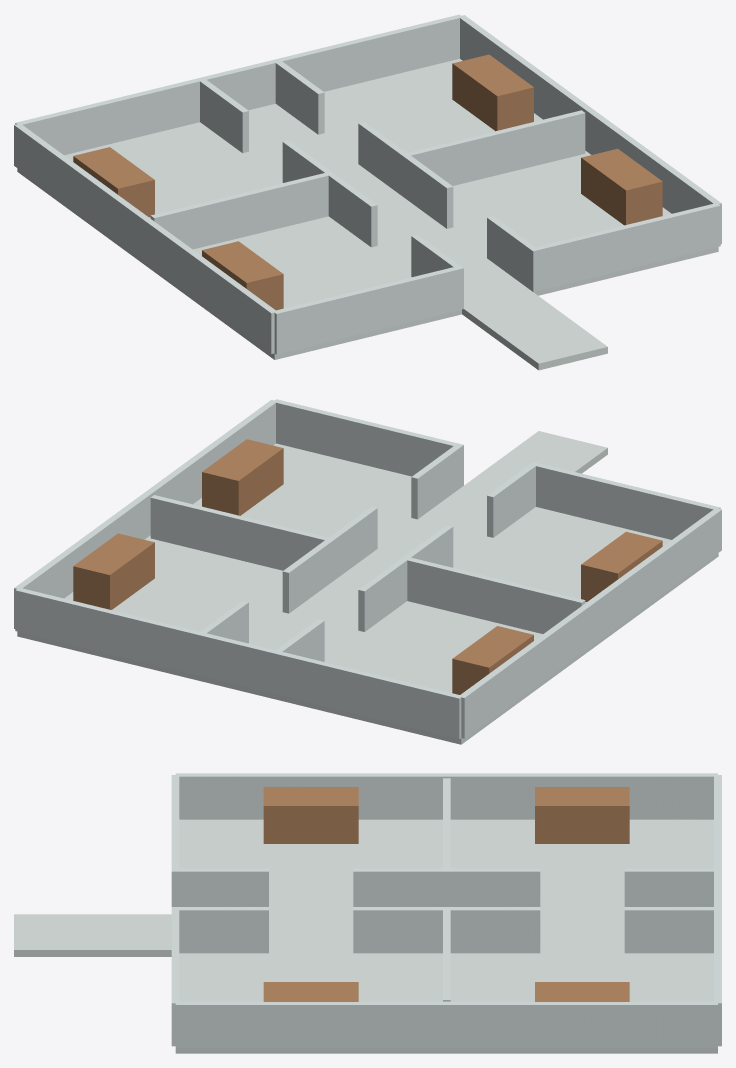
Rendered from research-lab-cutaway.glb.
3 views of the same model, one above another, from view 1: azimuth 30°, elevation 25°; view 2: azimuth 150°, elevation 25°; view 3: azimuth 270°, elevation 25° (orthographic). The views are drawn at different scales.
Visible parts, largest first — view 1: research-lab/floor/cutaway.002, research-lab/rear-wall/cutaway.002, research-lab/outer--1/cutaway.002, research-lab/entry-jamb-1/cutaway.002, research-lab/entry-jamb--1/cutaway.002, research-lab/outer-1/cutaway.002, research-lab/room-divider--1/cutaway.002, research-lab/room-divider-1/cutaway.002, research-lab/portal-floor-0/cutaway.002, research-lab/desk-3/cutaway.002, research-lab/desk-1/cutaway.002, research-lab/desk-0/cutaway.002 (+9 smaller); view 2: research-lab/floor/cutaway.002, research-lab/rear-wall/cutaway.002, research-lab/outer--1/cutaway.002, research-lab/outer-1/cutaway.002, research-lab/entry-jamb-1/cutaway.002, research-lab/entry-jamb--1/cutaway.002, research-lab/room-divider--1/cutaway.002, research-lab/room-divider-1/cutaway.002, research-lab/desk-3/cutaway.002, research-lab/desk-1/cutaway.002, research-lab/portal-floor-0/cutaway.002, research-lab/desk-2/cutaway.002 (+9 smaller); view 3: research-lab/floor/cutaway.002, research-lab/outer-1/cutaway.002, research-lab/outer--1/cutaway.002, research-lab/portal-floor-0/cutaway.002, research-lab/desk-0/cutaway.002, research-lab/desk-2/cutaway.002, research-lab/corridor-1--1-b/cutaway.002, research-lab/corridor-1-1-a/cutaway.002, research-lab/corridor-1--1-a/cutaway.002, research-lab/corridor-1-1-b/cutaway.002, research-lab/corridor--1--1-b/cutaway.002, research-lab/corridor--1-1-a/cutaway.002 (+9 smaller).
Boxes of the visible parts, box(x1,y1,x2,y2) form: research-lab/floor/cutaway.002: box(17, 59, 718, 359); research-lab/rear-wall/cutaway.002: box(15, 14, 462, 155); research-lab/outer--1/cutaway.002: box(14, 123, 275, 353); research-lab/entry-jamb-1/cutaway.002: box(529, 203, 720, 291); research-lab/entry-jamb--1/cutaway.002: box(273, 265, 463, 354); research-lab/outer-1/cutaway.002: box(458, 15, 721, 244); research-lab/room-divider--1/cutaway.002: box(150, 173, 328, 249); research-lab/room-divider-1/cutaway.002: box(407, 110, 585, 185); research-lab/portal-floor-0/cutaway.002: box(462, 291, 607, 370); research-lab/desk-3/cutaway.002: box(452, 54, 533, 131); research-lab/desk-1/cutaway.002: box(581, 148, 662, 225); research-lab/desk-0/cutaway.002: box(202, 241, 283, 310); research-lab/floor/cutaway.002: box(17, 443, 718, 744); research-lab/rear-wall/cutaway.002: box(15, 588, 462, 739); research-lab/outer--1/cutaway.002: box(459, 509, 721, 738); research-lab/outer-1/cutaway.002: box(14, 400, 277, 628); research-lab/entry-jamb-1/cutaway.002: box(273, 399, 463, 486); research-lab/entry-jamb--1/cutaway.002: box(531, 462, 720, 539); research-lab/room-divider--1/cutaway.002: box(407, 557, 585, 633); research-lab/room-divider-1/cutaway.002: box(150, 495, 328, 570); research-lab/desk-3/cutaway.002: box(73, 533, 154, 609); research-lab/desk-1/cutaway.002: box(202, 439, 283, 515); research-lab/portal-floor-0/cutaway.002: box(462, 431, 607, 493); research-lab/desk-2/cutaway.002: box(452, 626, 533, 694); research-lab/floor/cutaway.002: box(175, 819, 717, 1053); research-lab/outer-1/cutaway.002: box(175, 1001, 717, 1047); research-lab/outer--1/cutaway.002: box(175, 773, 717, 819); research-lab/portal-floor-0/cutaway.002: box(14, 914, 171, 956); research-lab/desk-0/cutaway.002: box(263, 787, 358, 843); research-lab/desk-2/cutaway.002: box(535, 787, 629, 843); research-lab/corridor-1--1-b/cutaway.002: box(446, 907, 540, 953); research-lab/corridor-1-1-a/cutaway.002: box(353, 907, 446, 953); research-lab/corridor-1--1-a/cutaway.002: box(624, 907, 717, 953); research-lab/corridor-1-1-b/cutaway.002: box(175, 907, 268, 953); research-lab/corridor--1--1-b/cutaway.002: box(446, 868, 540, 906); research-lab/corridor--1-1-a/cutaway.002: box(353, 868, 446, 906).
Bounding box in the file's own units: 10.42 × 1.05 × 13.46.
